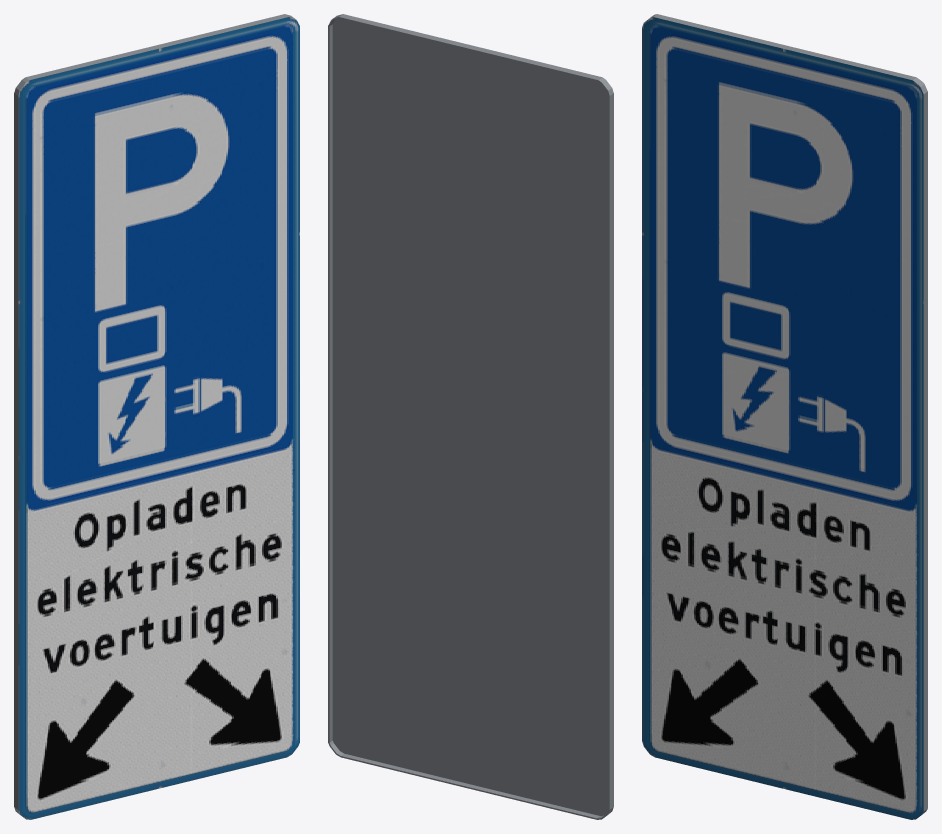
The picture shows the model from 3 angles, left to right: view 1: azimuth 30°, elevation 25°; view 2: azimuth 150°, elevation 25°; view 3: azimuth 330°, elevation 25°; orthographic projection.
Parts seen in each view (by area): view 1: cat_5cd1ee0553a40b2a; view 2: cat_5cd1ee0553a40b2a; view 3: cat_5cd1ee0553a40b2a.
Boxes of the visible parts, <box> form: cat_5cd1ee0553a40b2a: <box>14,14,299,819</box>; cat_5cd1ee0553a40b2a: <box>328,14,613,819</box>; cat_5cd1ee0553a40b2a: <box>642,14,927,819</box>.
Bounding box in the file's own units: 0.6 × 0.015 × 1.51.
2 materials, 1 textured.
